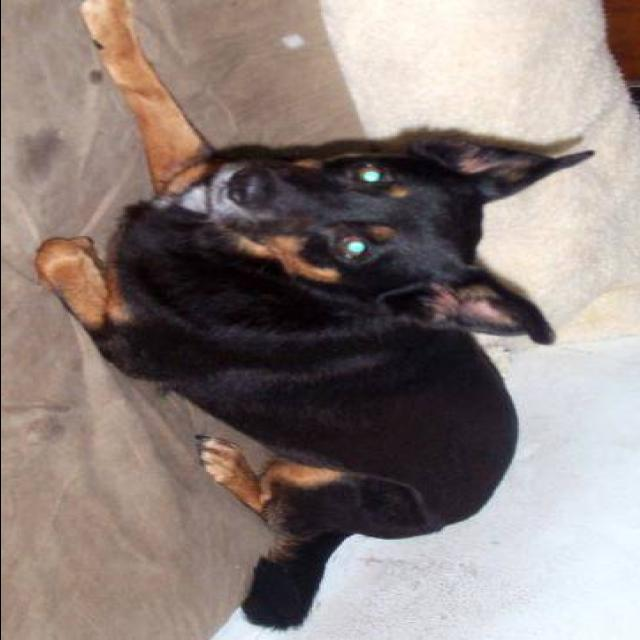dog: (38, 0, 609, 640)
